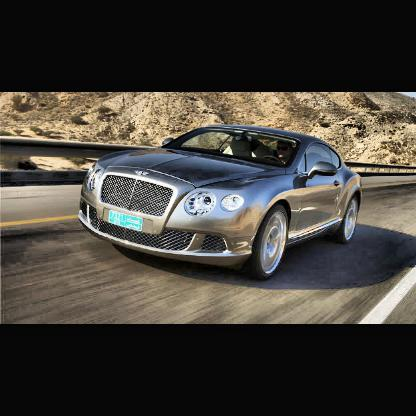Bentley Continental GT Coupe 2012: (77, 122, 364, 282)
